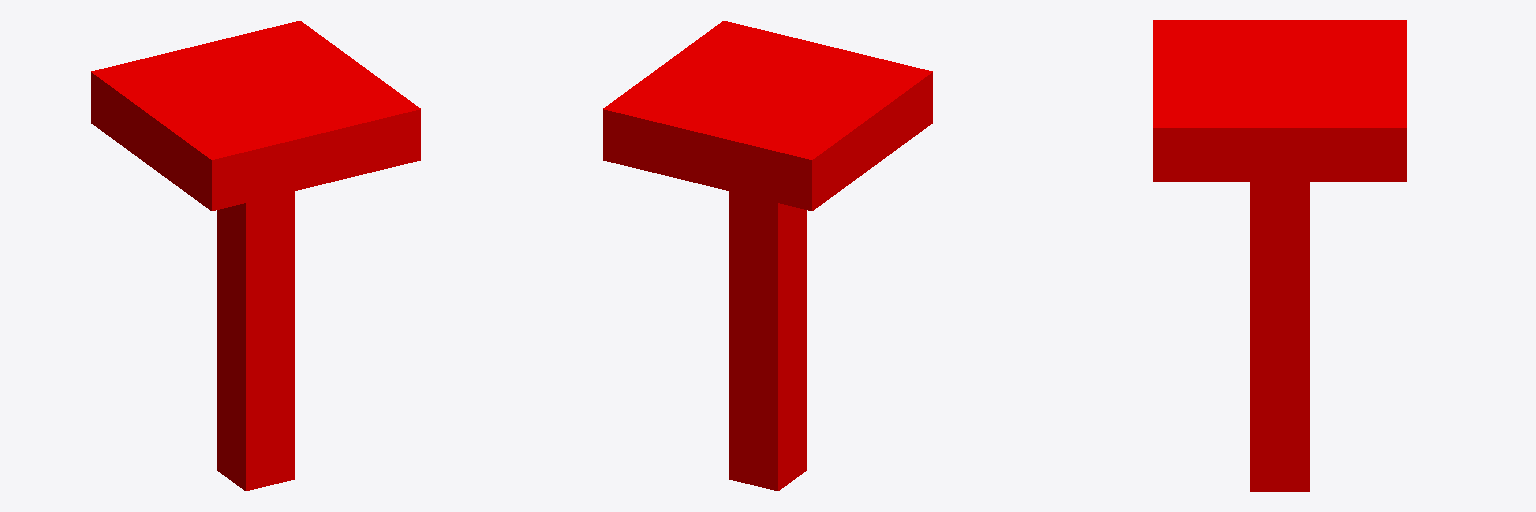
robot.urdf — table:
<?xml version="1.0"?>
<robot name="table"> <!-- Table made of boxes -->
  <link name="table_base">
    <visual>
      <origin xyz="0 0 -0.039"/> <!-- 0.001 to avoid collision with robot-->
      <geometry>
        <box size="0.3 0.3 0.07" />
      </geometry>
      <material name="Red">
        <color rgba="1 0 0 1"/>
      </material>
    </visual>
    <collision>
      <origin xyz="0 0 -0.039"/>
      <geometry>
        <box size="0.3 0.3 0.07" />
      </geometry>
    </collision>
  </link>

  <joint name="j_foot_one" type="fixed">
    <parent link="table_base"/>
    <child link="l_foot_one"/>
    <origin xyz="0 0 0"/>
  </joint>

  <link name="l_foot_one">
    <visual>
      <origin xyz="0 0 -0.3"/>
      <geometry>
        <box size="0.07 0.07 0.46" />
      </geometry>
      <material name="Red">
        <color rgba="1 0 0 1"/>
      </material>
    </visual>
    <collision>
      <origin xyz="0 0 -0.3"/>
      <geometry>
        <box size="0.07 0.07 0.46" />
      </geometry>
    </collision>
  </link>
</robot>

--- Facts derived from the render (not from the file) ---
The picture shows the robot from 3 angles, left to right: view 1: azimuth 30°, elevation 25°; view 2: azimuth 150°, elevation 25°; view 3: azimuth 270°, elevation 25°; orthographic projection.
Robot: table — 2 links, 1 joints (1 fixed); root link table_base; default pose: all joints at 0.
Visible links, largest first — view 1: table_base, l_foot_one; view 2: table_base, l_foot_one; view 3: table_base, l_foot_one.
Link boxes in pixels (left/top/right/bottom): table_base: left=91, top=21, right=420, bottom=210; l_foot_one: left=217, top=191, right=294, bottom=490; table_base: left=603, top=21, right=932, bottom=210; l_foot_one: left=729, top=191, right=806, bottom=490; table_base: left=1153, top=20, right=1406, bottom=181; l_foot_one: left=1250, top=182, right=1309, bottom=491.
Size in the robot's own frame: 0.3 by 0.3 by 0.526 metres.
Geometry: primitives only (box / cylinder / sphere), no mesh files.
